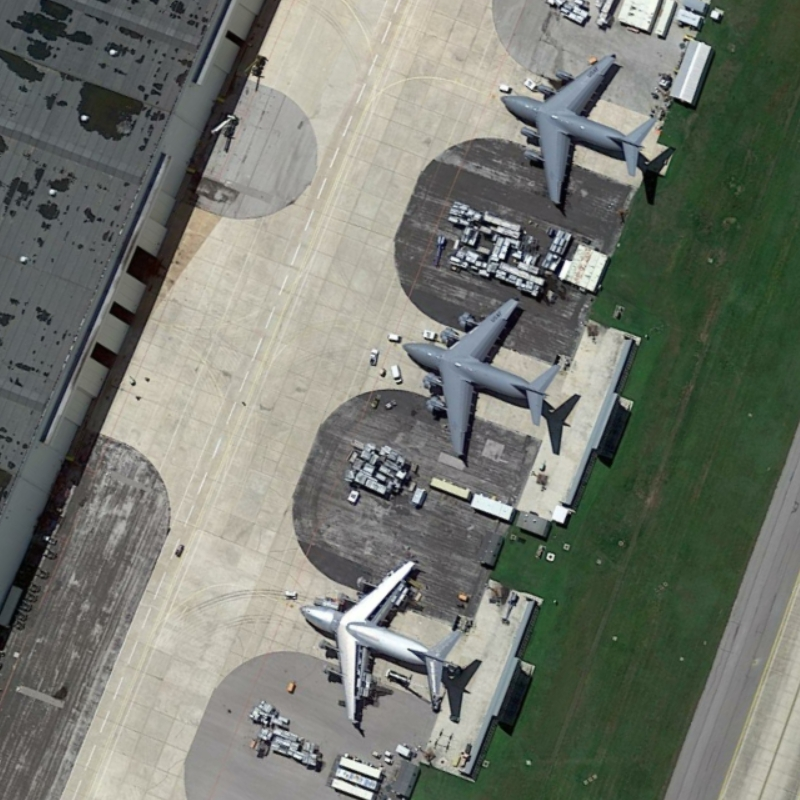A3: (293, 555, 471, 729), (399, 296, 564, 466), (492, 52, 661, 212)
